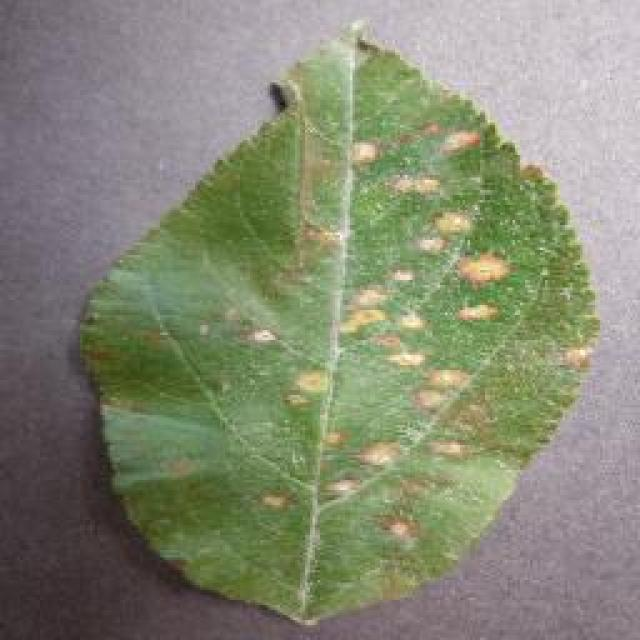apple healthy: (75, 18, 603, 628)
